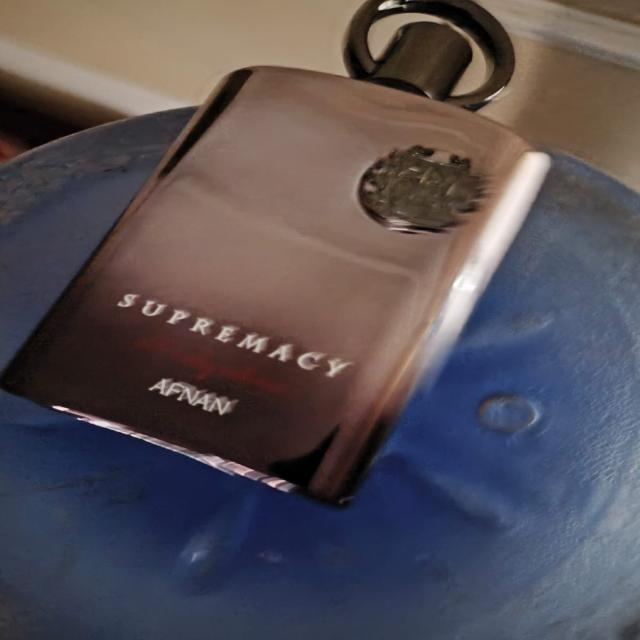Afnan: (1, 1, 554, 510)
